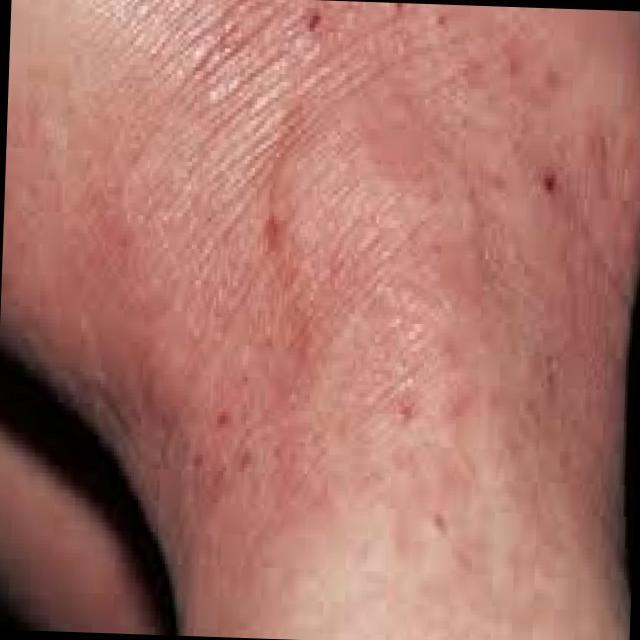Eczema: (62, 0, 640, 531)
